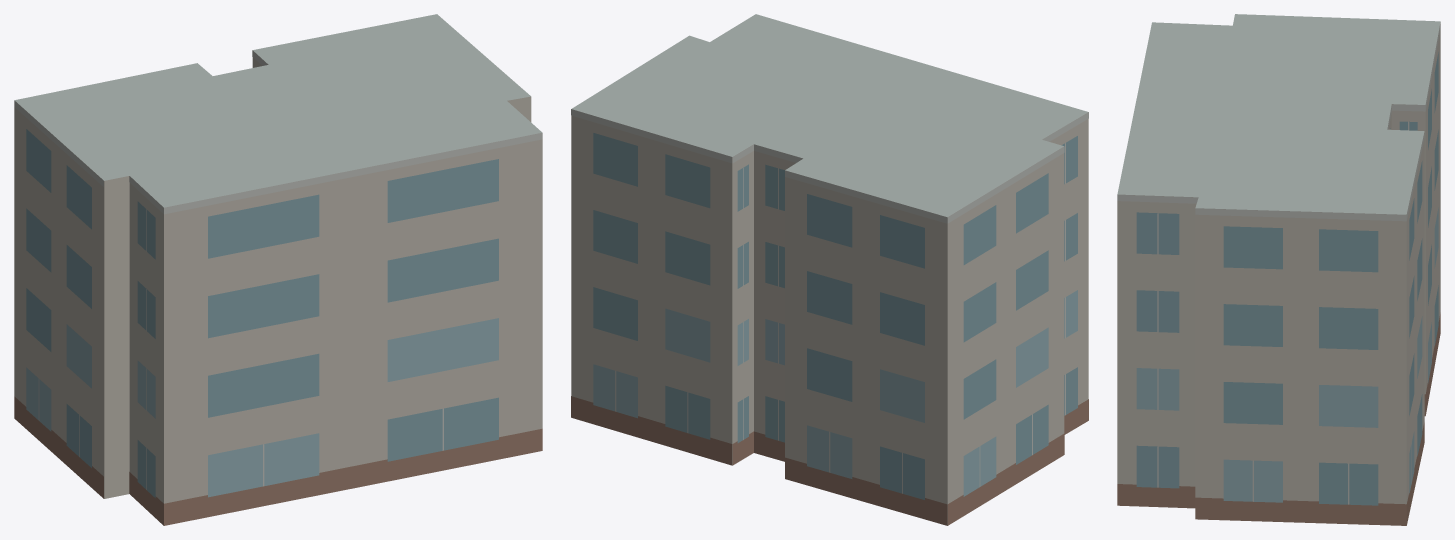
File: survey-upis-32703902.glb
The picture shows the model from 3 angles, left to right: view 1: azimuth 30°, elevation 25°; view 2: azimuth 150°, elevation 25°; view 3: azimuth 270°, elevation 25°; orthographic projection. The views are drawn at different scales.
Visible parts, largest first — view 1: survey-upis-32703902.tmp; view 2: survey-upis-32703902.tmp; view 3: survey-upis-32703902.tmp.
Boxes of the visible parts, x1,y1,x2,y2 form: survey-upis-32703902.tmp: (14,14,542,525); survey-upis-32703902.tmp: (571,14,1088,525); survey-upis-32703902.tmp: (1117,14,1440,525).
Size of the model in its own units: 16.06 by 11.6 by 10.94.
